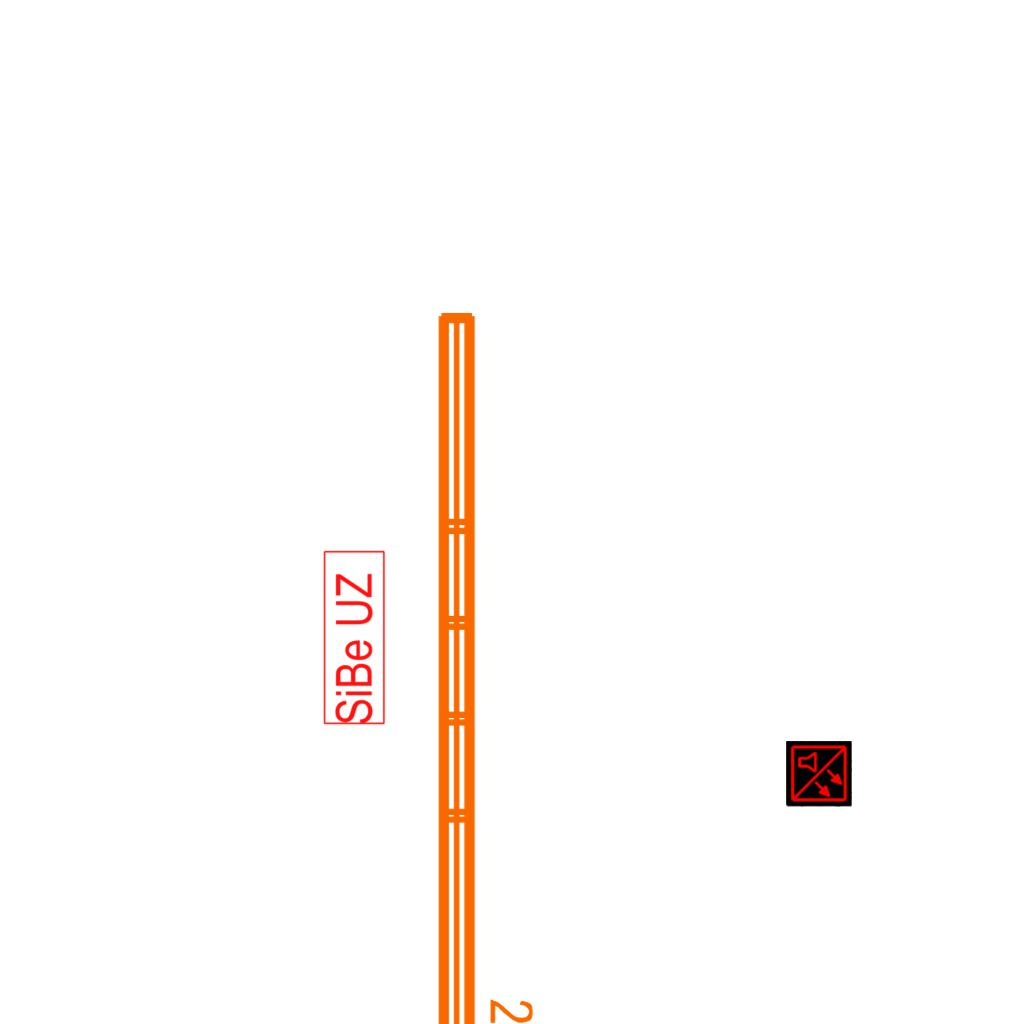Ambulanz_Pendelleuchte_LED: (426, 302, 538, 1024)
OKW_Multisensormelder_(Kombination_optischer_Rauch-Kahlenmonoxid_Waerme-Melder): (786, 741, 852, 807)
Zentrale_Sicherheitsbeleuchtung: (322, 548, 387, 726)
